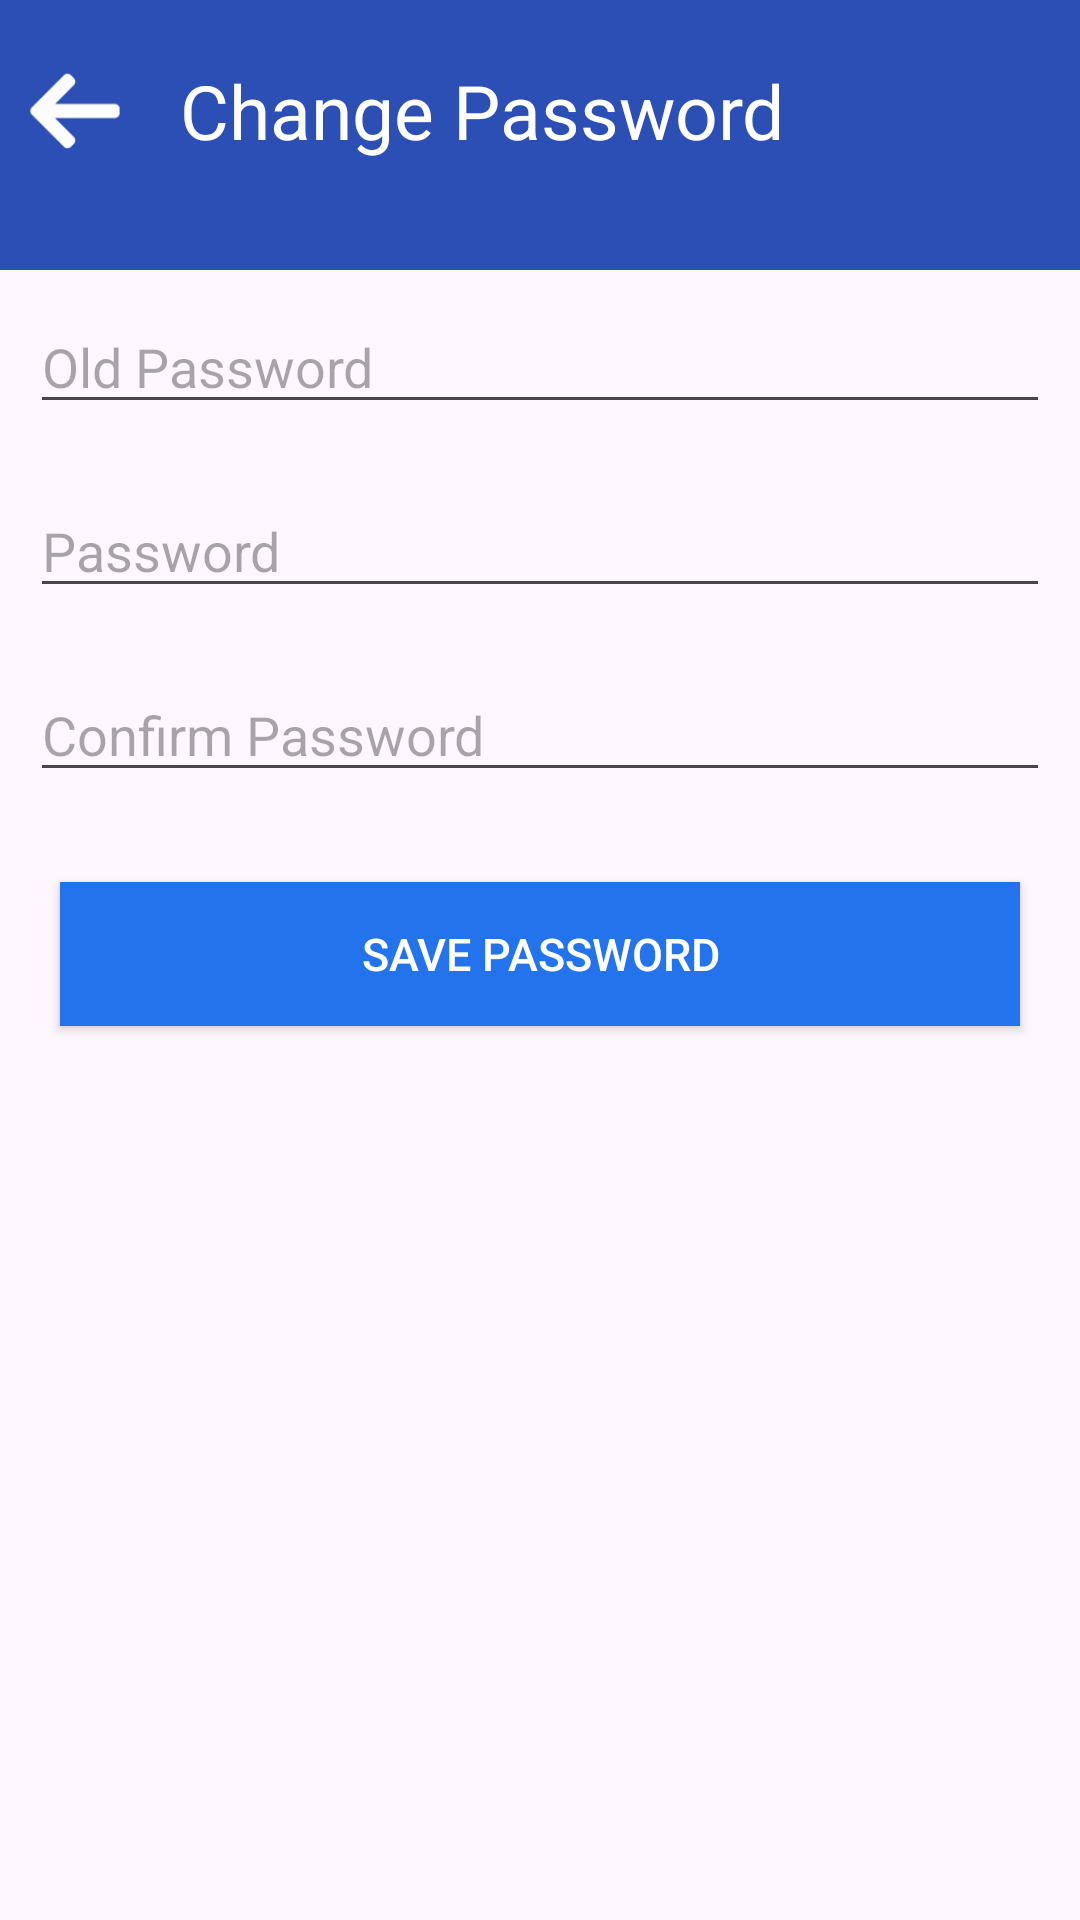

Icons on this 1080w x 1920h Android screen, each with the point to tap as (x=x, y=y):
arrow left: (x=75, y=111)
